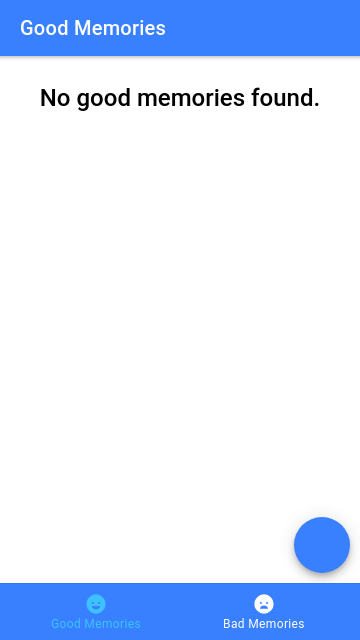
Tabs › Bad Memories
Click the tab with id "tab-button-bad" at point(264, 612), box left=180, top=584, right=348, bottom=639
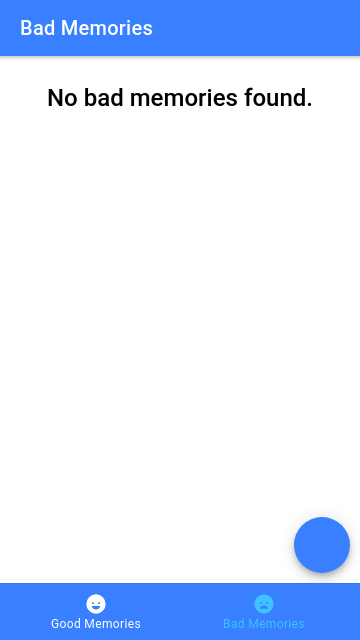
Now the 1st text "Bad Memories" is shown, box left=20, top=16, right=153, bottom=40
